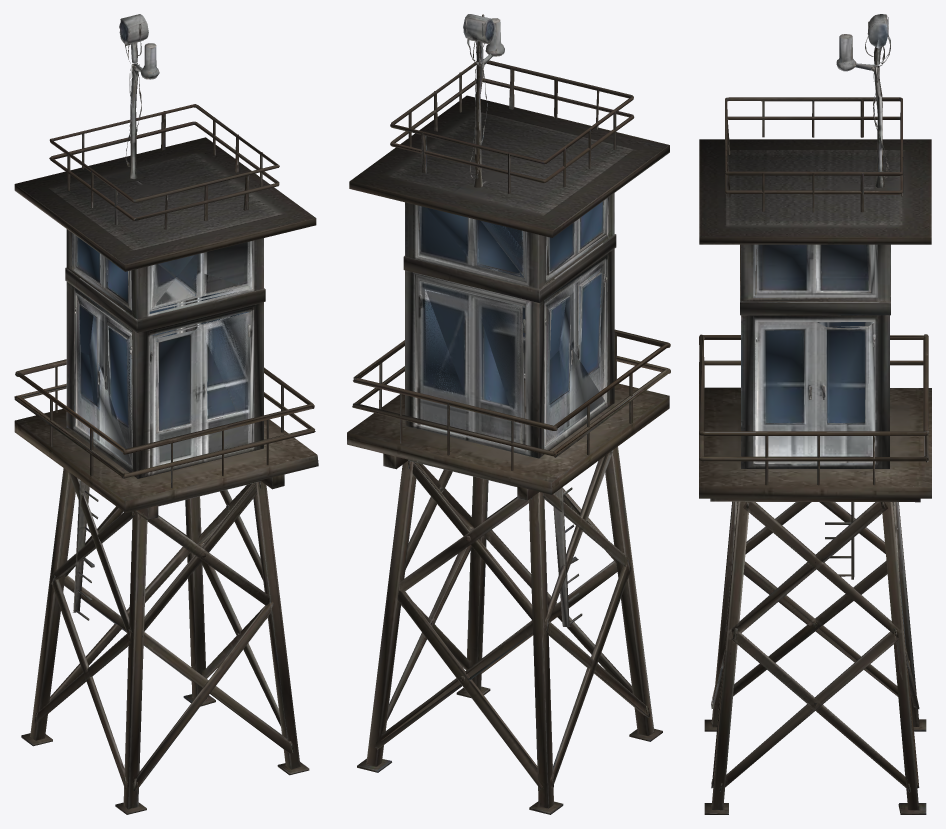
Rendered from guard_tower.glb.
3 views of the same model, side by side, from view 1: azimuth 30°, elevation 25°; view 2: azimuth 150°, elevation 25°; view 3: azimuth 270°, elevation 25° (orthographic). The views are drawn at different scales.
Size of the model in its own units: 3.15 by 11 by 3.1.
1 material, 1 textured.
